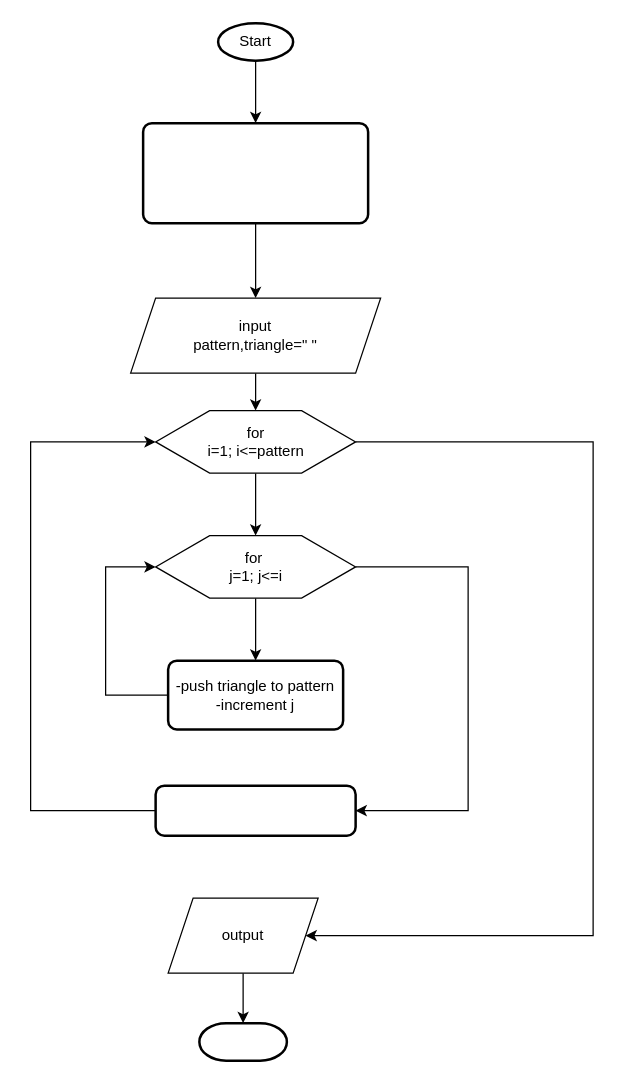
Image size: 625x1083. Some labels were removed from this diagram. The box of each missing label's shape, as (x1, y1, x2, y2) in pixels:
- <br> push to pattern -increment i: (154, 784, 356, 836)
end: (198, 1021, 288, 1061)
initialization pattern,i,j,triangle=" ": (141, 121, 369, 224)
